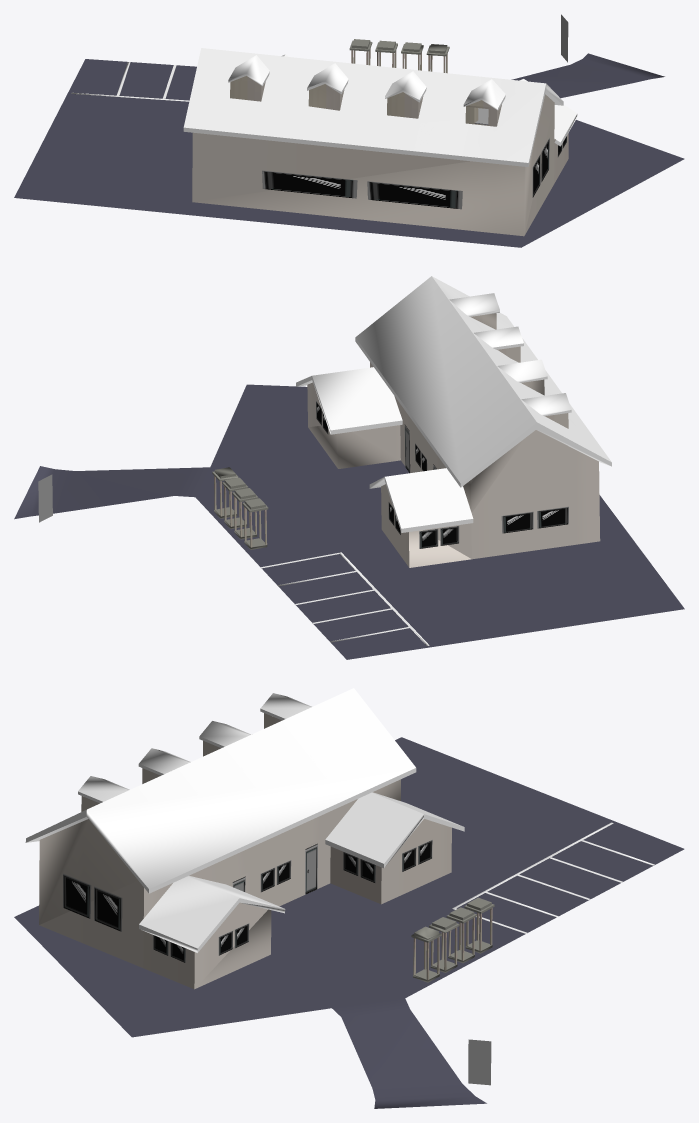
Rendered from Home_2.fbx.
3 renders of one model, top to bottom at view 1: azimuth 30°, elevation 25°; view 2: azimuth 150°, elevation 25°; view 3: azimuth 270°, elevation 25°, orthographic. The views are drawn at different scales.
Parts seen in each view (by area): view 1: Home_2; view 2: Home_2; view 3: Home_2.
Boxes of the visible parts, x1=… form: Home_2: x1=14, y1=14, x2=684, y2=247; Home_2: x1=14, y1=276, x2=684, y2=659; Home_2: x1=14, y1=688, x2=684, y2=1108.
Size of the model in its own units: 45.7 by 10.87 by 37.74.
